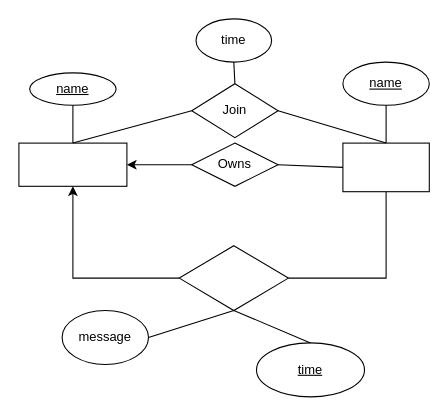
The diagram is 448 pixels wide and 416 high, and some of its shapes have lost their labels. The shapes that lost their labels are listed below. From the top down, each one's centre as x and y in pixels, then its label:
At pixel 72 164: "User".
At pixel 385 167: "Group".
At pixel 233 277: "PostMessage".
